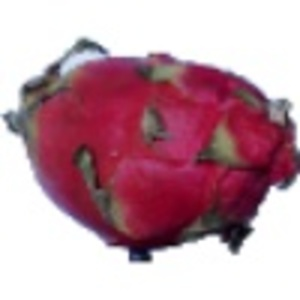pitaia: (1, 36, 300, 265)
